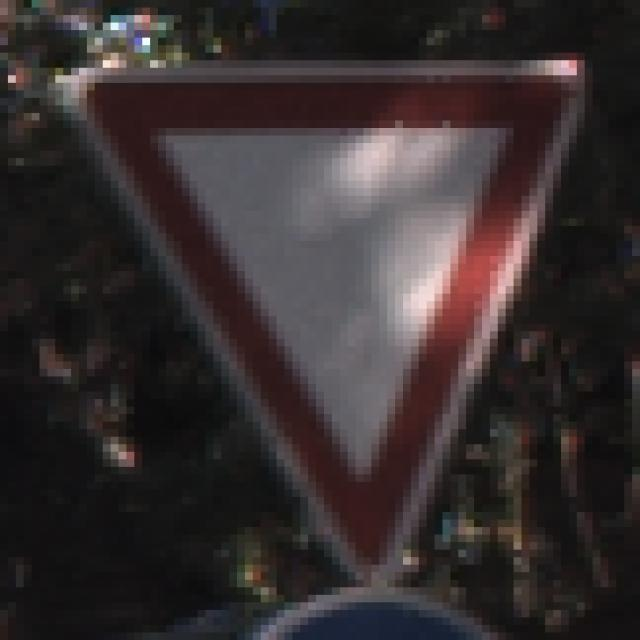Give Way: (64, 62, 586, 589)
